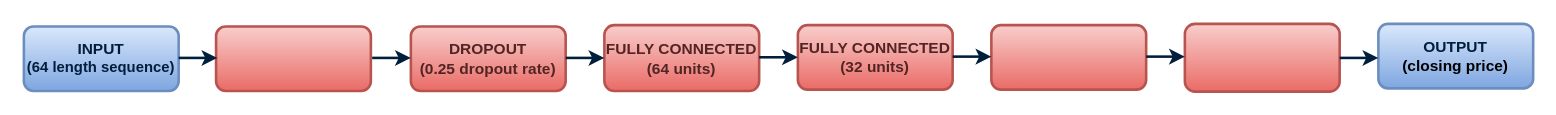
Image size: 1556x115. Some labels were removed from this diagram. The shapes that lost their labels are listed below. From the top down, each one's centre as x and y in pixels, then its label:
At point (293, 58): "LSTM (64 units, return sequences - False)".
At point (1068, 56): "FULLY CONNECTED (16 units)".
At point (1261, 57): "FULLY CONNECTED (1 unit)".
